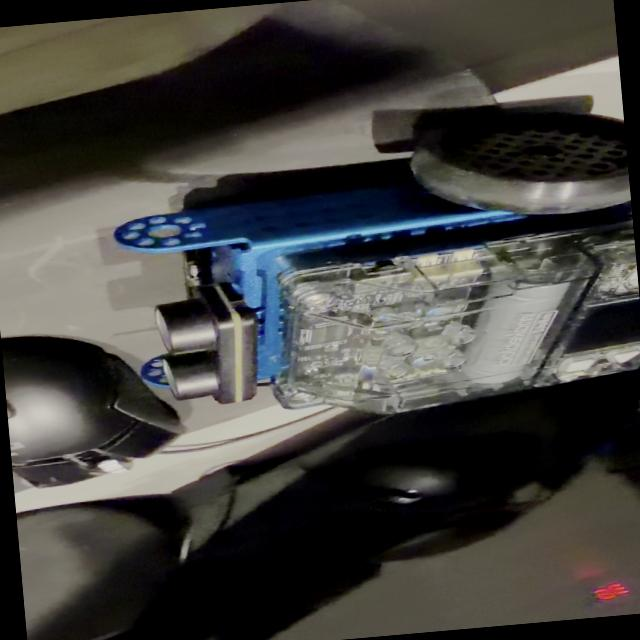mbot-detection: (97, 88, 640, 435)
